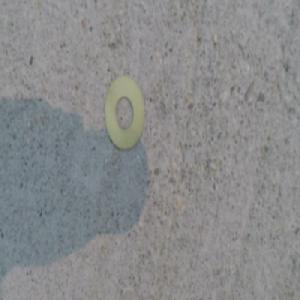Washer: (103, 73, 146, 151)
